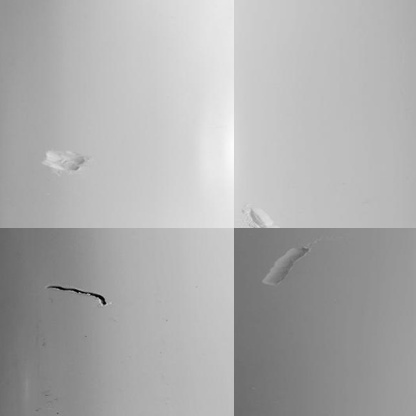fengxi: (44, 281, 116, 308)
sunshang: (262, 243, 307, 291), (40, 145, 91, 175), (246, 208, 273, 229)
